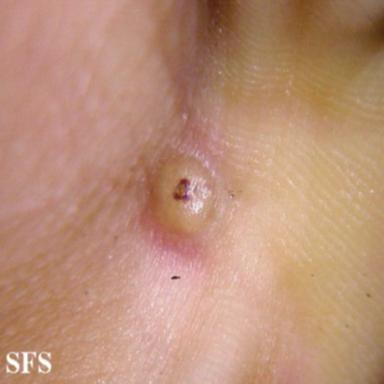Tungiasis: (151, 155, 216, 242)
